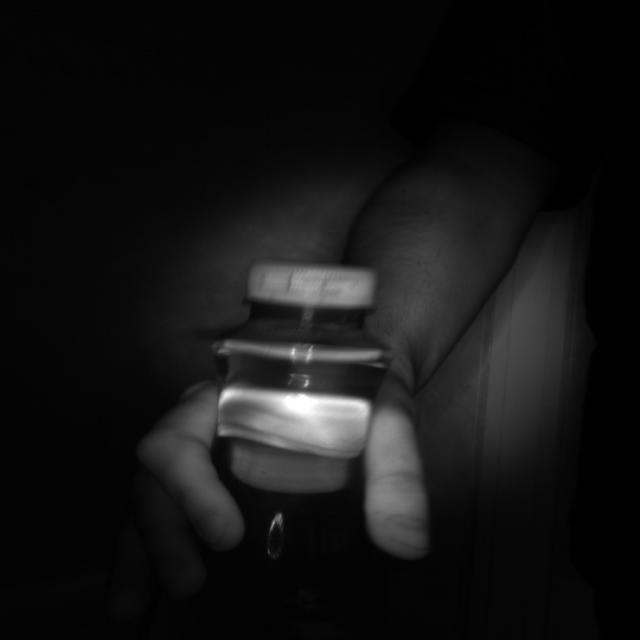Good: (247, 259, 376, 307)
